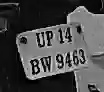1: (57, 27, 65, 47)
3: (78, 48, 86, 63)
4: (64, 26, 74, 44), (63, 51, 73, 69)
6: (71, 48, 80, 67)
9: (54, 53, 65, 70)
B: (28, 58, 41, 77)
P: (45, 30, 55, 47)
U: (34, 31, 46, 50)
W: (39, 55, 53, 74)
